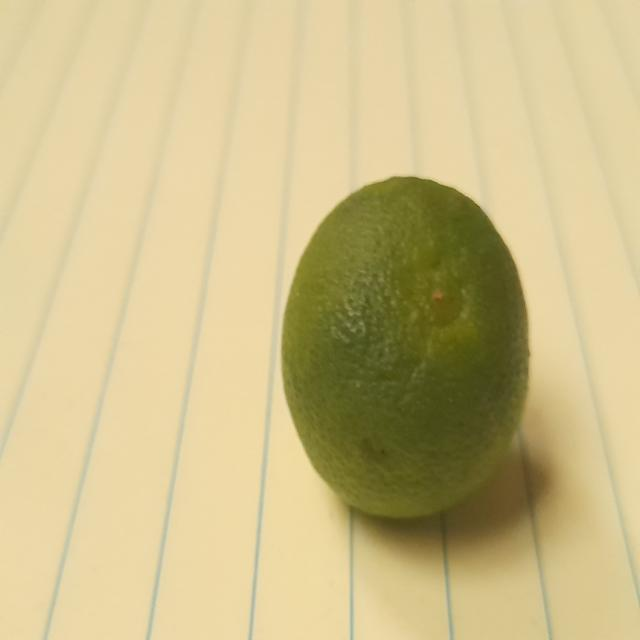heathy: (279, 170, 537, 528)
